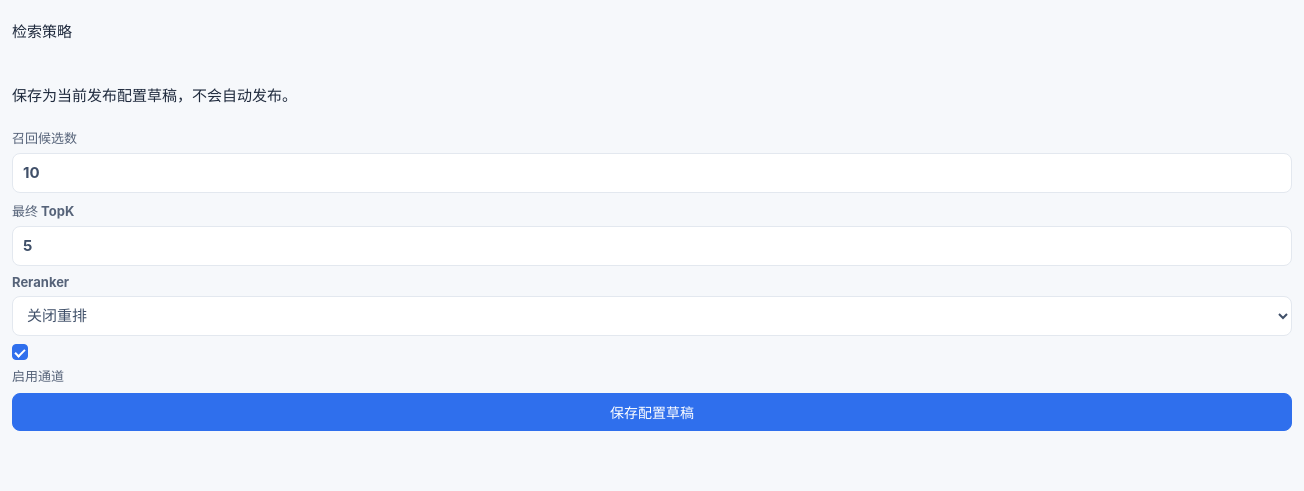
Test case: saves embedded task retrieval settings explicitly
Select "BGE Large · bge-reranker-large" in the dropdown labelled "Reranker" at (652, 316), box x1=12 y1=296 x2=1292 y2=336
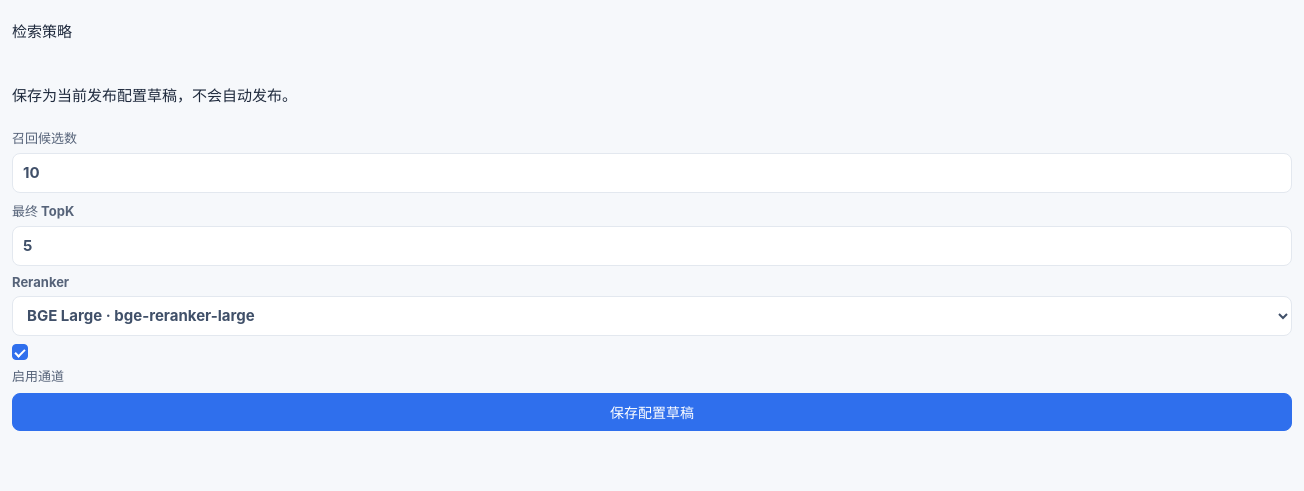
Submit the form
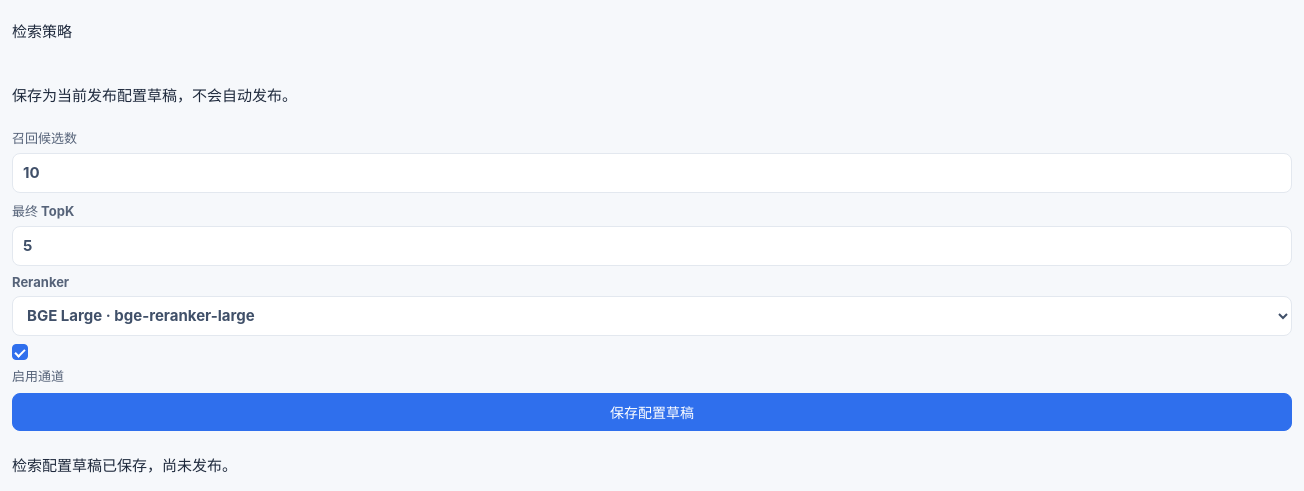
Expected: the form shows "尚未发布", x1=12 y1=456 x2=237 y2=475
